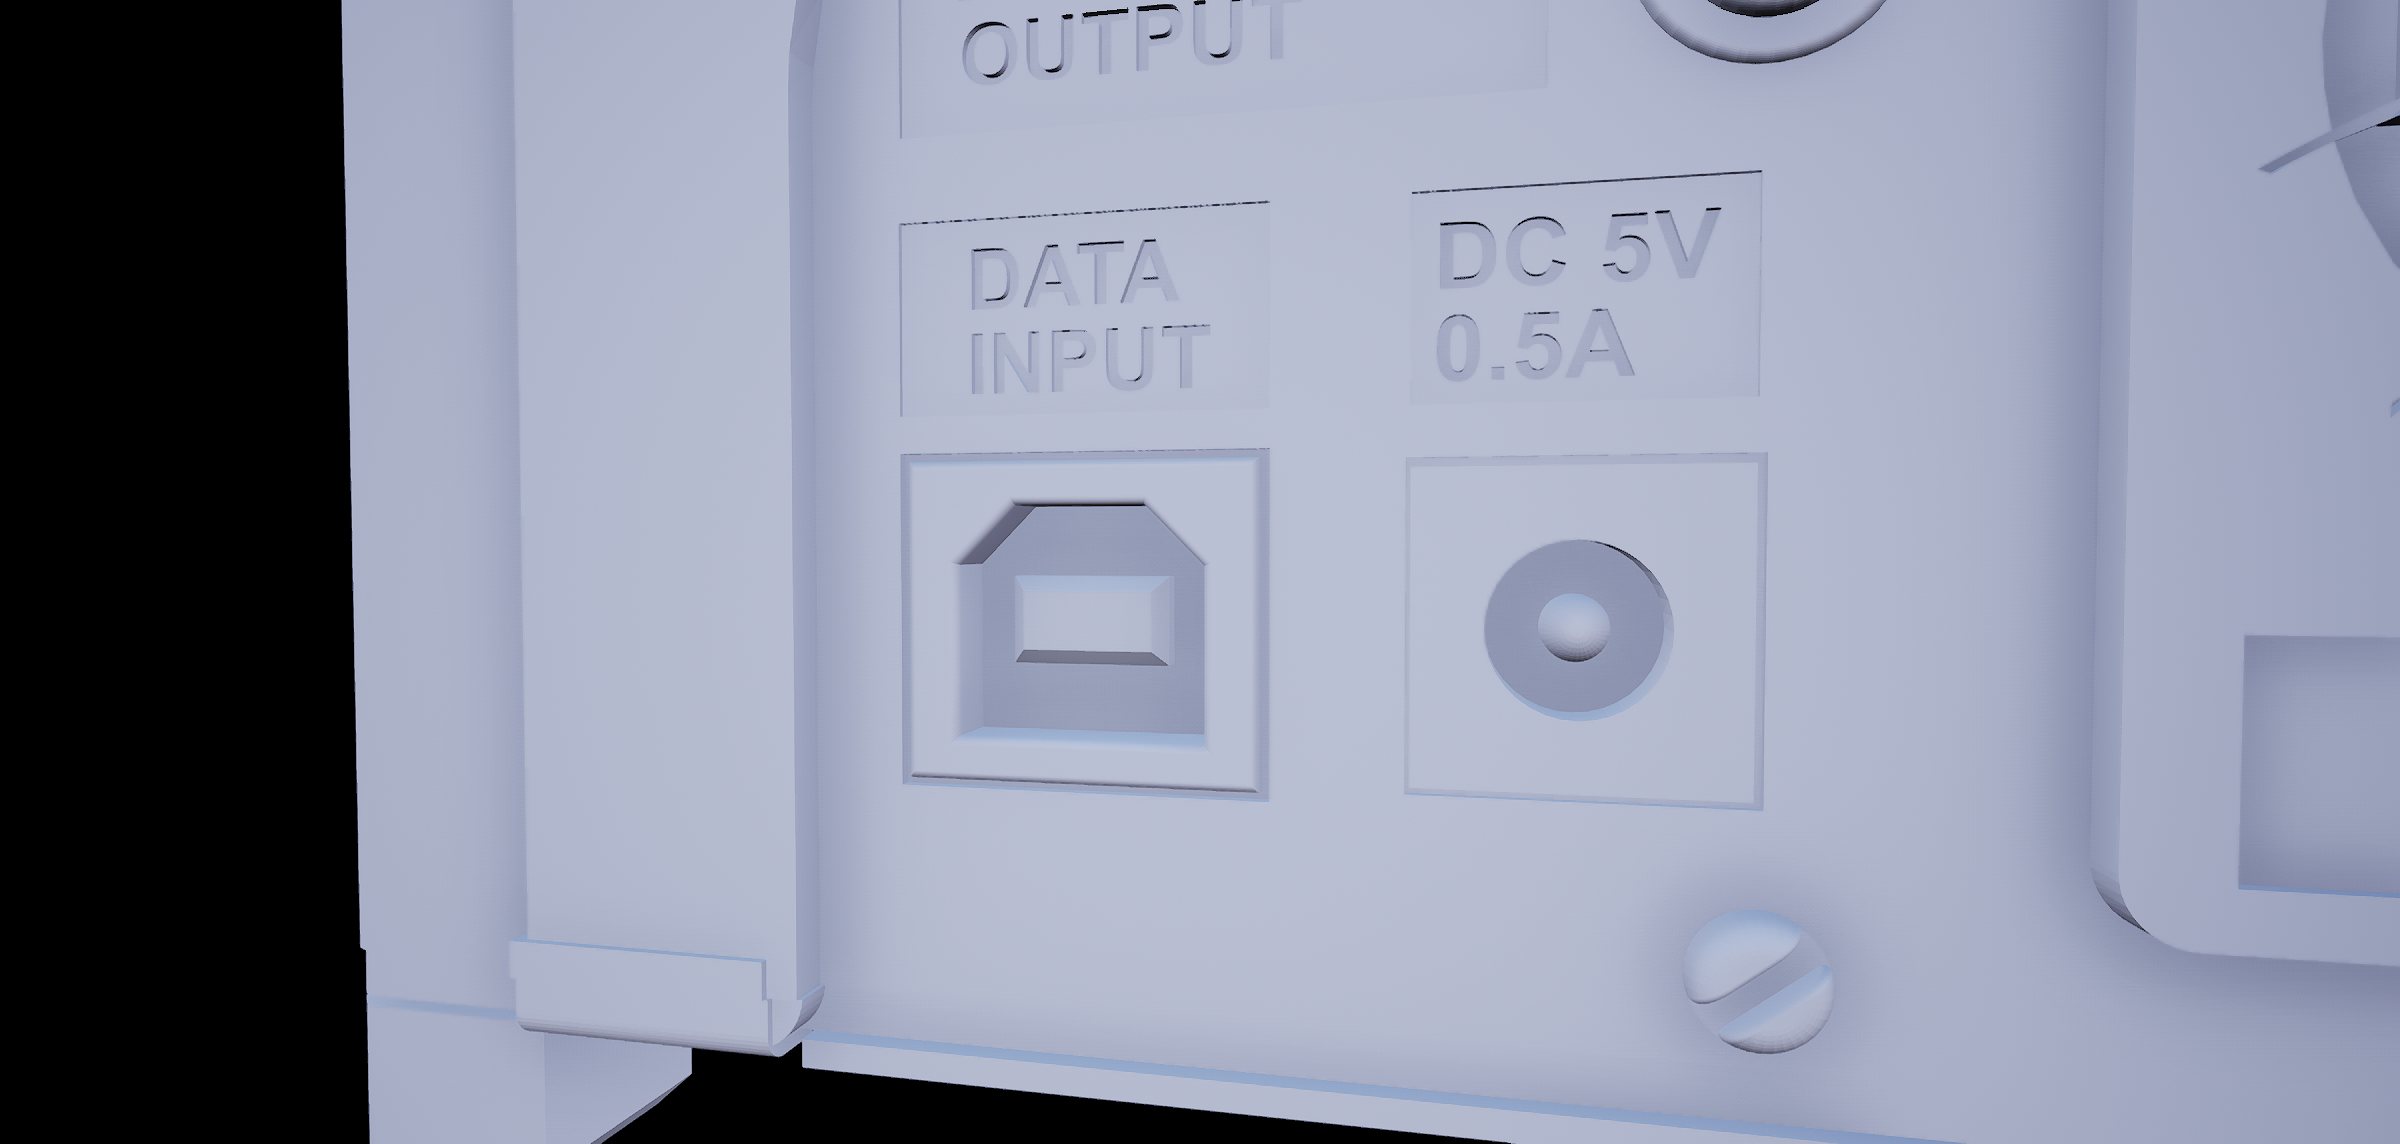aux: (1610, 2, 1930, 70)
dc: (1466, 524, 1696, 731)
usb: (941, 487, 1231, 767)
